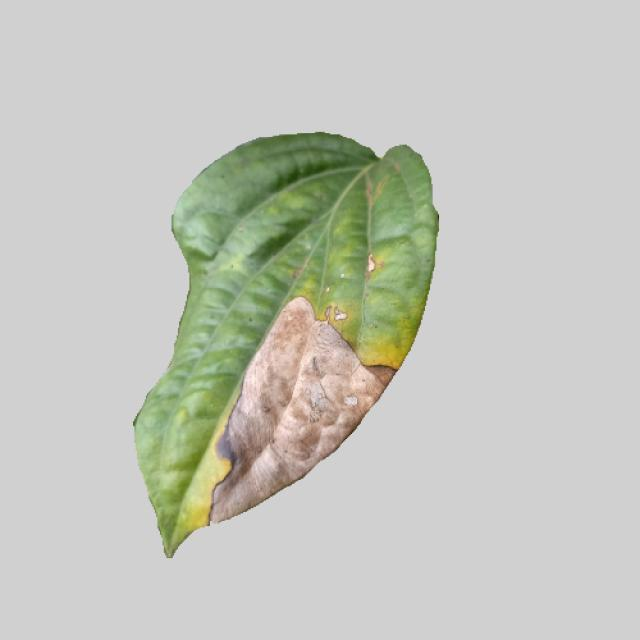leaf-blight: (122, 137, 446, 559)
